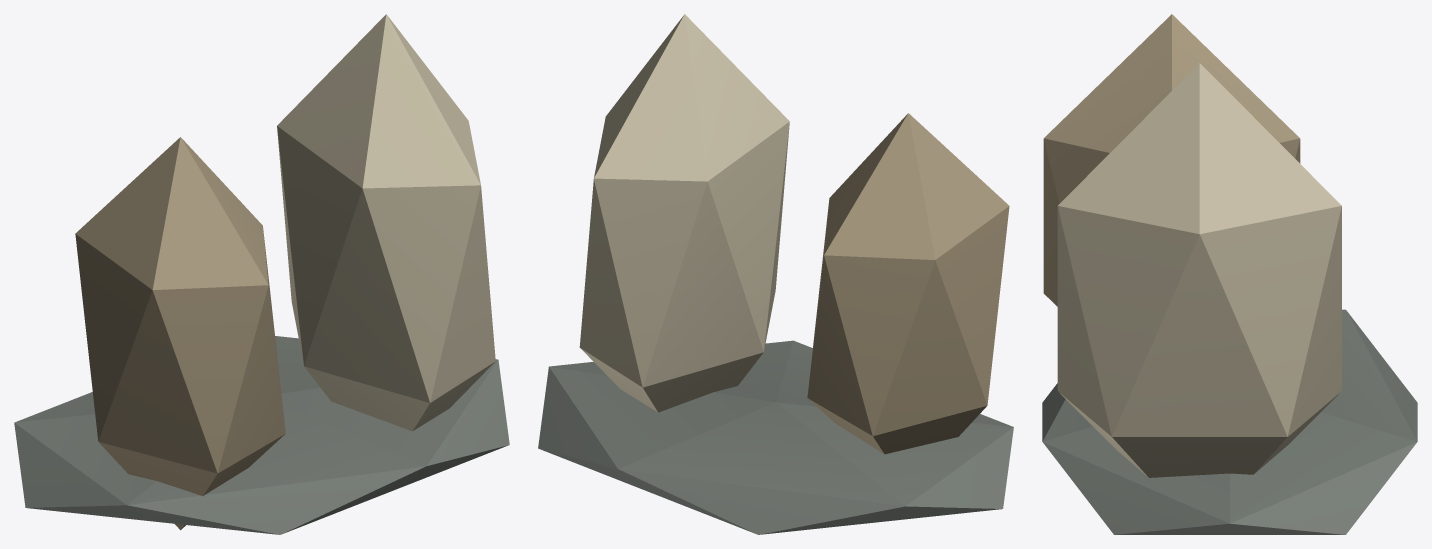
Rendered from split_rock.glb.
The picture shows the model from 3 angles, left to right: view 1: azimuth 30°, elevation 25°; view 2: azimuth 150°, elevation 25°; view 3: azimuth 270°, elevation 25°; orthographic projection. The views are drawn at different scales.
Visible parts, largest first — view 1: split_rock; view 2: split_rock; view 3: split_rock.
Part boxes in pixels (<box>): split_rock: <box>14,14,509,534</box>; split_rock: <box>538,14,1013,534</box>; split_rock: <box>1042,14,1417,534</box>.
Bounding box in the file's own units: 2.41 × 2.24 × 1.62.
